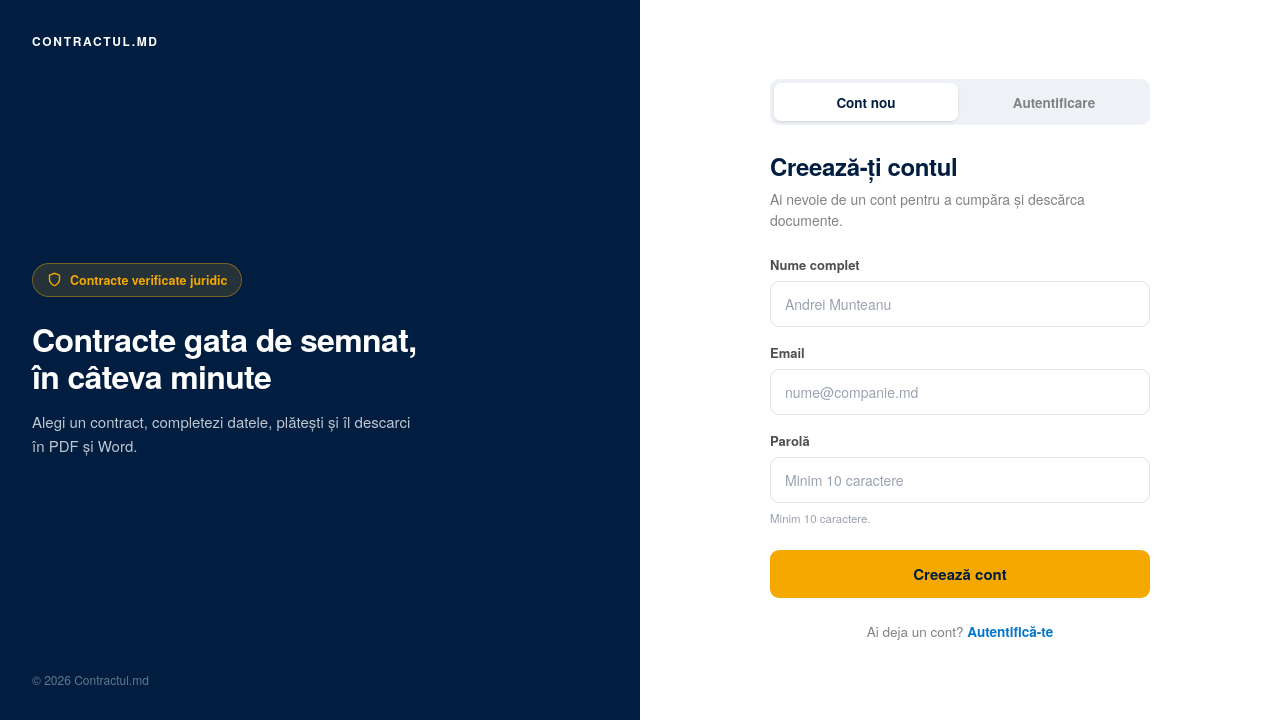
Scenario: AuthPage › shows the API's error message rather than inventing one
Type "Ion Popescu" into the field labelled "Nume complet".
click(960, 304); type("Ion Popescu")  # box x1=770 y1=281 x2=1150 y2=327
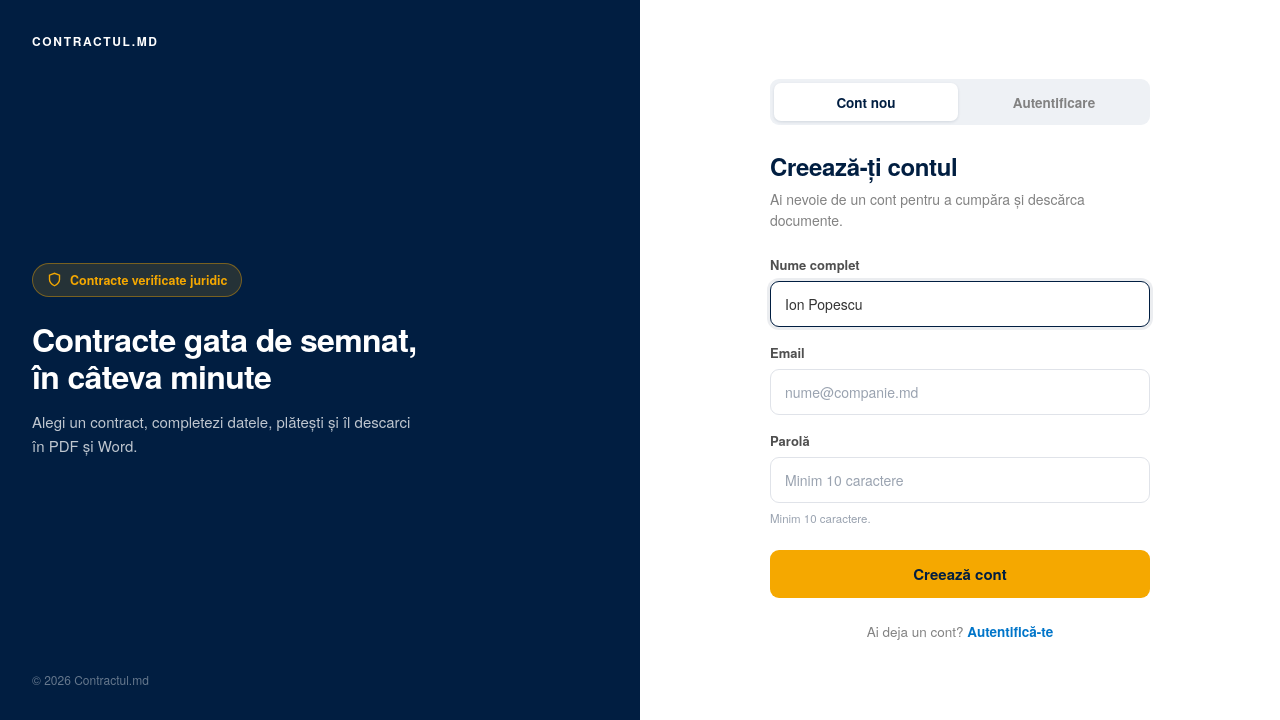
Type "ion@nordconstruct.md" into the field labelled "Email".
click(960, 392); type("ion@nordconstruct.md")  # box x1=770 y1=369 x2=1150 y2=415
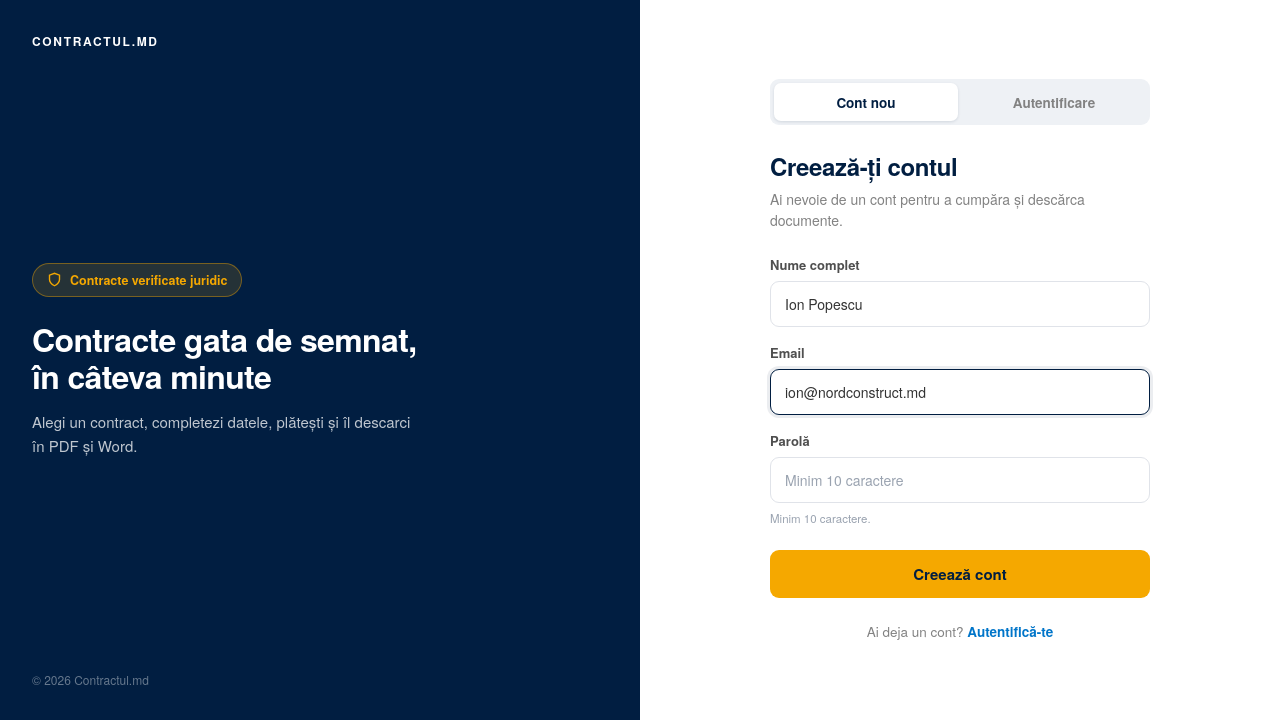
Type "parola-mea-sigura-2026" into the password field labelled "Parolă".
click(960, 480); type("parola-mea-sigura-2026")  # box x1=770 y1=457 x2=1150 y2=503
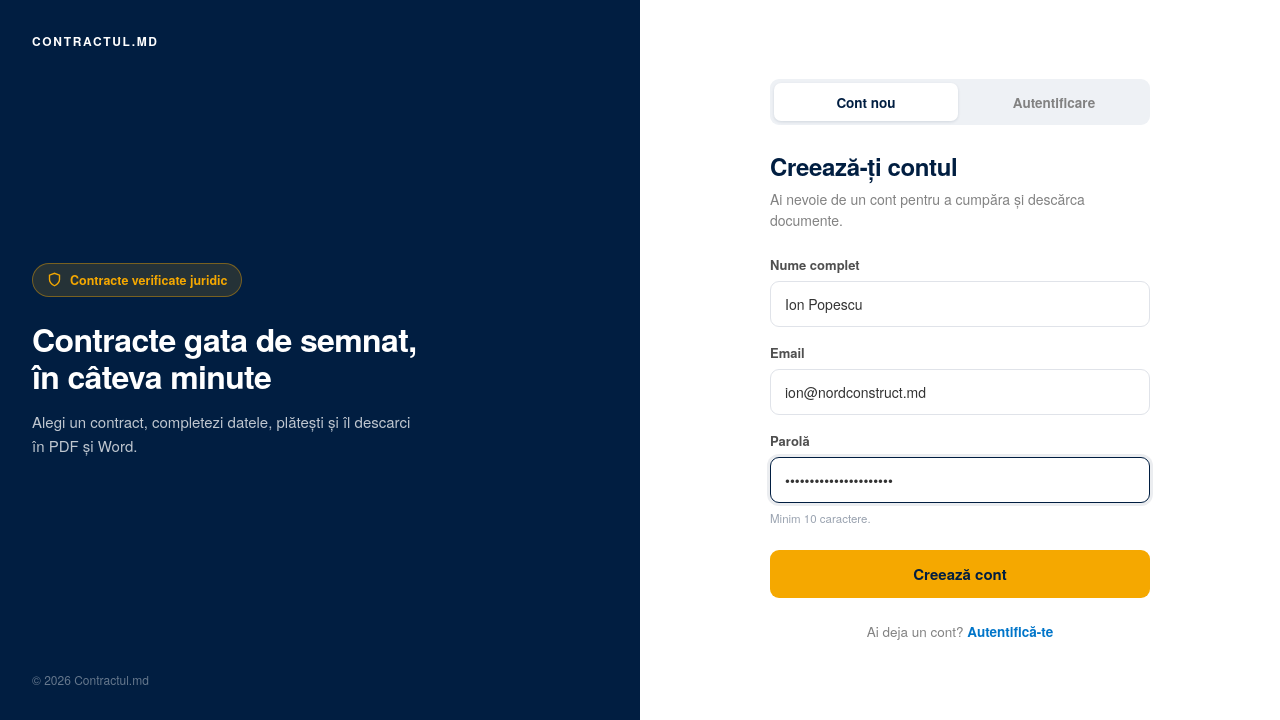
Click the button "Creează cont".
click(960, 574)  # box x1=770 y1=550 x2=1150 y2=598
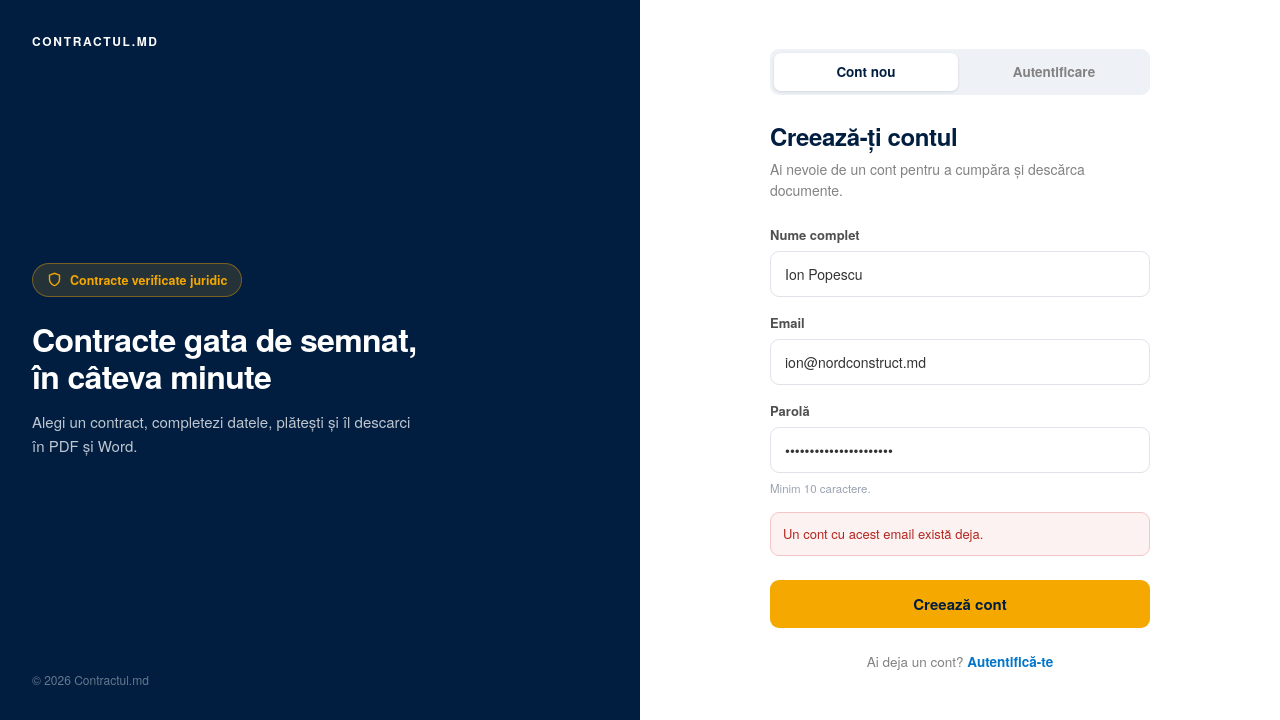
expect the message reads "Un cont cu acest email există deja.": met, box x1=783 y1=524 x2=983 y2=543
